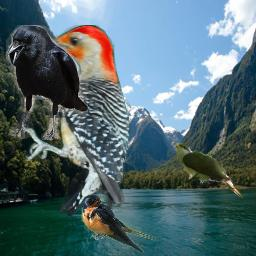Crow: (6, 25, 88, 140)
Cuckoo: (171, 142, 244, 198)
Swallow: (81, 193, 158, 252)
Woodpecker: (22, 25, 134, 216)
